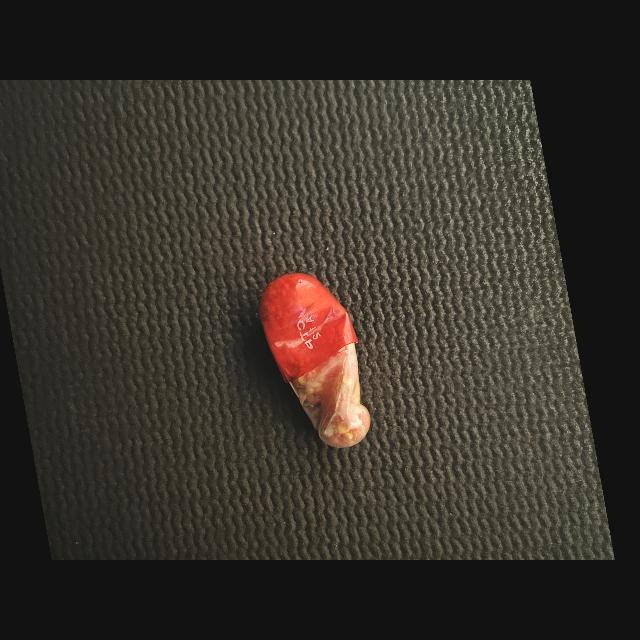Defective Capsule: (260, 272, 370, 448)
